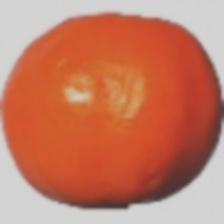tangerine: (7, 40, 205, 205)
